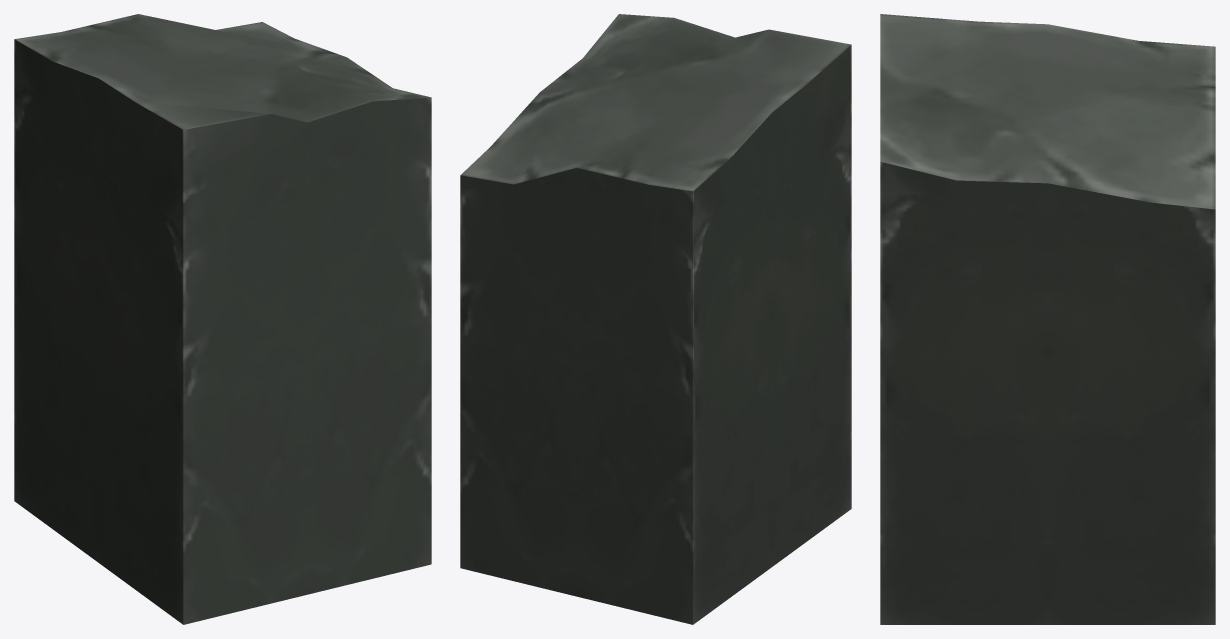
File: yw_newshanlin_zhuziduan_001.FBX
3 renders of one model, left to right at view 1: azimuth 30°, elevation 25°; view 2: azimuth 150°, elevation 25°; view 3: azimuth 270°, elevation 25°, orthographic. The views are drawn at different scales.
Visible parts, largest first — view 1: yw_newshanlin_zhuziduan_001; view 2: yw_newshanlin_zhuziduan_001; view 3: yw_newshanlin_zhuziduan_001.
Part boxes in pixels (bbox=[...]): yw_newshanlin_zhuziduan_001: bbox=[14, 14, 431, 624]; yw_newshanlin_zhuziduan_001: bbox=[460, 14, 851, 624]; yw_newshanlin_zhuziduan_001: bbox=[880, 14, 1215, 624].
Size of the model in its own units: 51.91 by 99.01 by 61.27.
